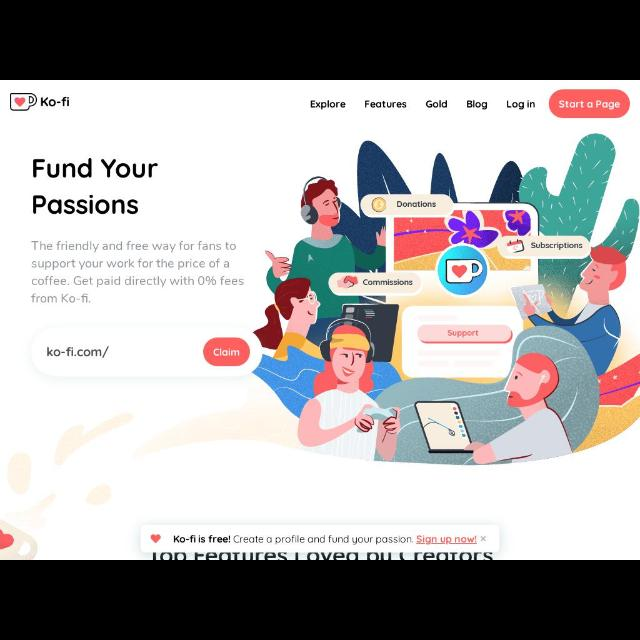backgroundimage: (1, 80, 640, 560)
icon: (481, 536, 485, 542)
image: (9, 93, 36, 111), (150, 534, 160, 544)
link: (417, 535, 477, 545)
text: (173, 535, 477, 545), (32, 276, 244, 288), (34, 158, 158, 178), (32, 241, 236, 253), (32, 258, 230, 270), (34, 196, 138, 214), (48, 347, 108, 358), (560, 100, 620, 110), (32, 294, 90, 302), (310, 100, 346, 110), (366, 100, 406, 108), (41, 97, 69, 107), (507, 100, 535, 110), (467, 100, 488, 110), (214, 348, 240, 356), (427, 100, 448, 108)
textbutton: (548, 90, 630, 118), (204, 338, 250, 366)
